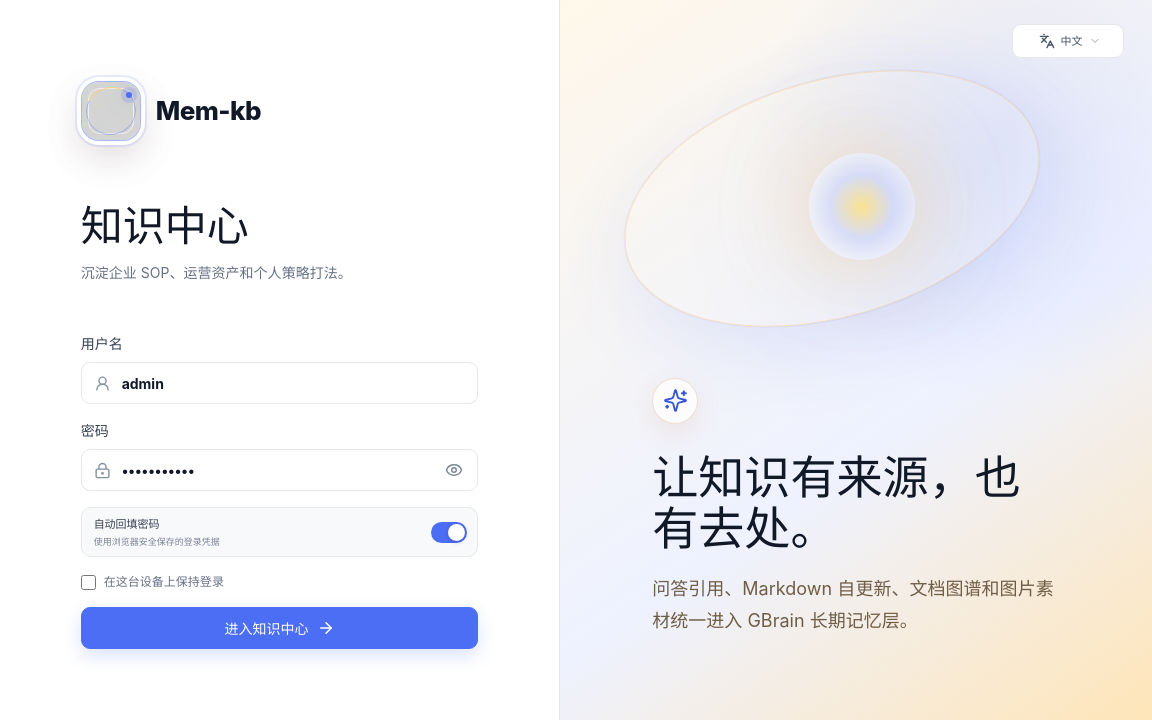
Test: LoginPage › shows and hides the password without changing its value
Click the button named "显示密码".
click(454, 470)  # box [436, 452, 472, 488]
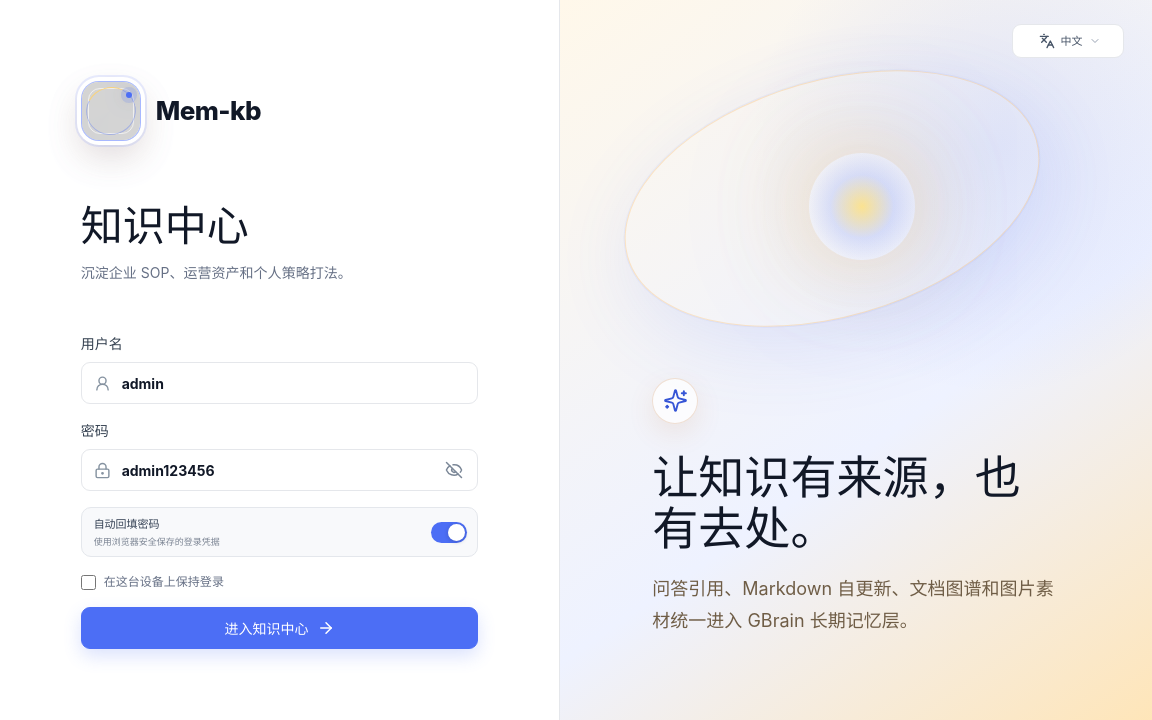
Expected: the field labelled "密码" holds "admin123456", [81, 449, 478, 491]
Expected: the field labelled "密码" shows its text, [81, 449, 478, 491]
Click the button named "隐藏密码".
click(454, 470)  # box [436, 452, 472, 488]
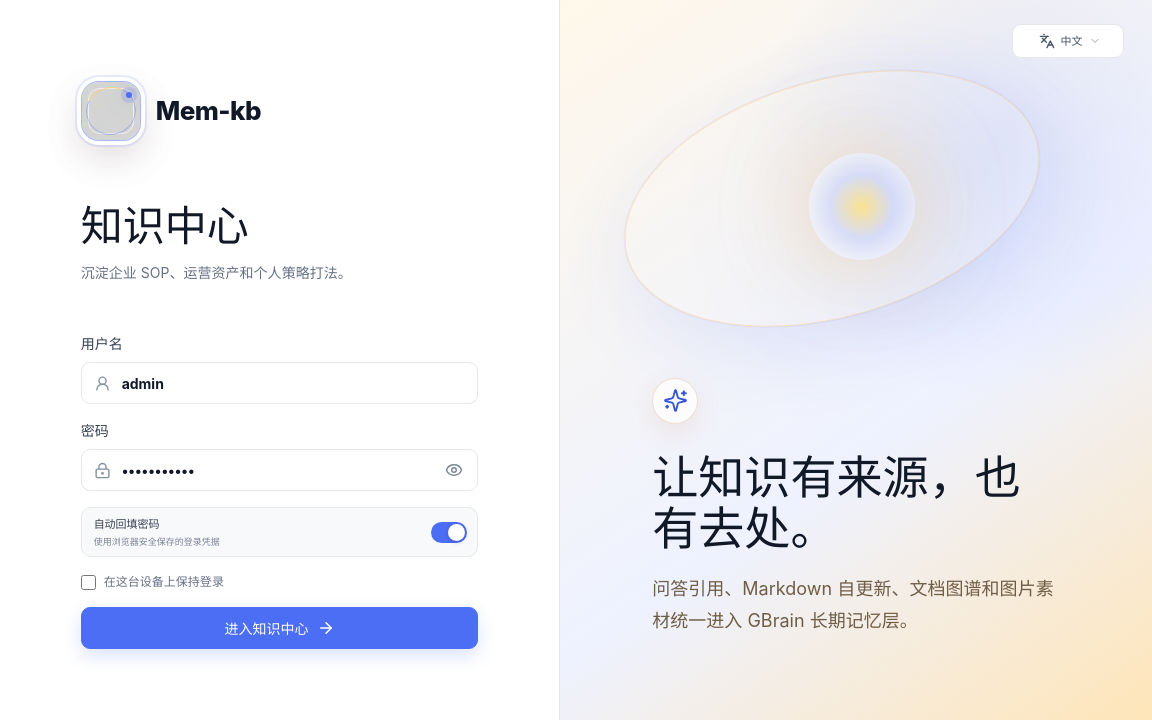
Expected: the password field labelled "密码" hides its text, [81, 449, 478, 491]
